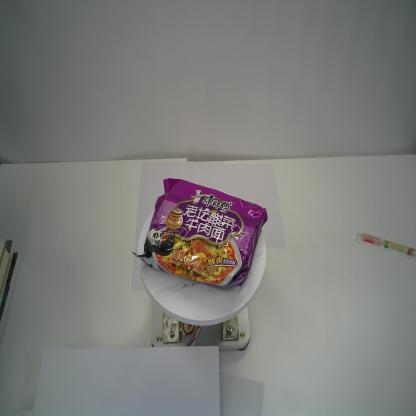Instant Noodles: (132, 178, 268, 287)
